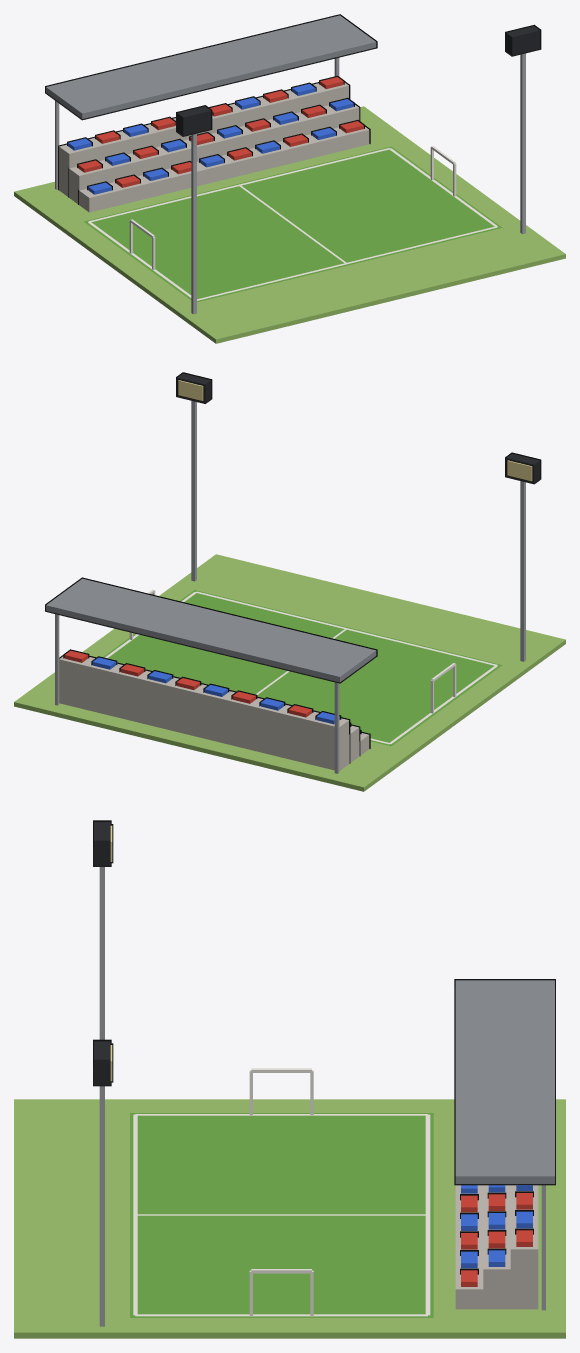
Rendered from Park_cim_stadyum.fbx.
3 views of the same model, one above another, from view 1: azimuth 30°, elevation 25°; view 2: azimuth 150°, elevation 25°; view 3: azimuth 270°, elevation 25° (orthographic). The views are drawn at different scales.
Visible parts, largest first — view 1: Park_cim_stadyum; view 2: Park_cim_stadyum; view 3: Park_cim_stadyum.
Boxes of the visible parts, bbox=[...] form: Park_cim_stadyum: bbox=[14, 14, 565, 343]; Park_cim_stadyum: bbox=[14, 372, 565, 791]; Park_cim_stadyum: bbox=[14, 820, 565, 1338].
Bounding box in the file's own units: 10.24 × 5.64 × 10.
